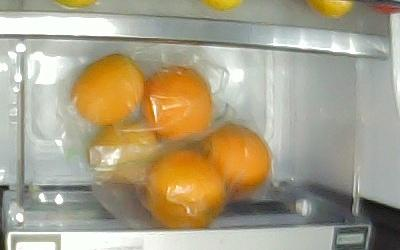orange_vinyl: (146, 148, 225, 229), (69, 54, 144, 127), (143, 66, 213, 140), (198, 124, 269, 191), (88, 123, 157, 182)
